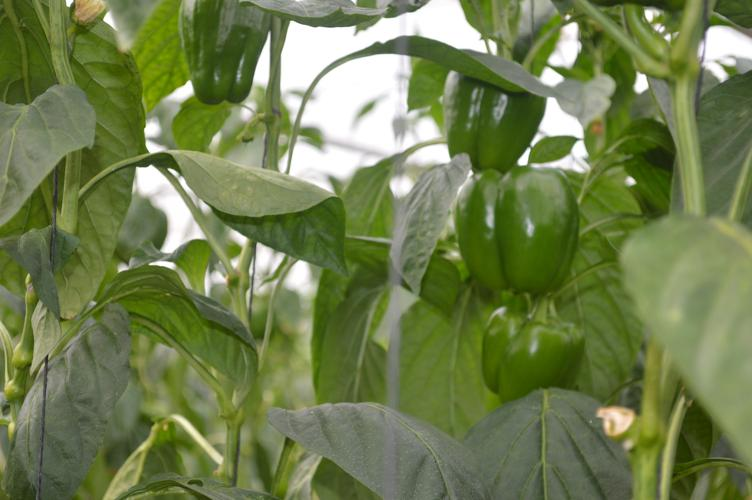BellPepper: (446, 166, 581, 296), (438, 69, 540, 172), (470, 309, 588, 398), (174, 4, 269, 102)
